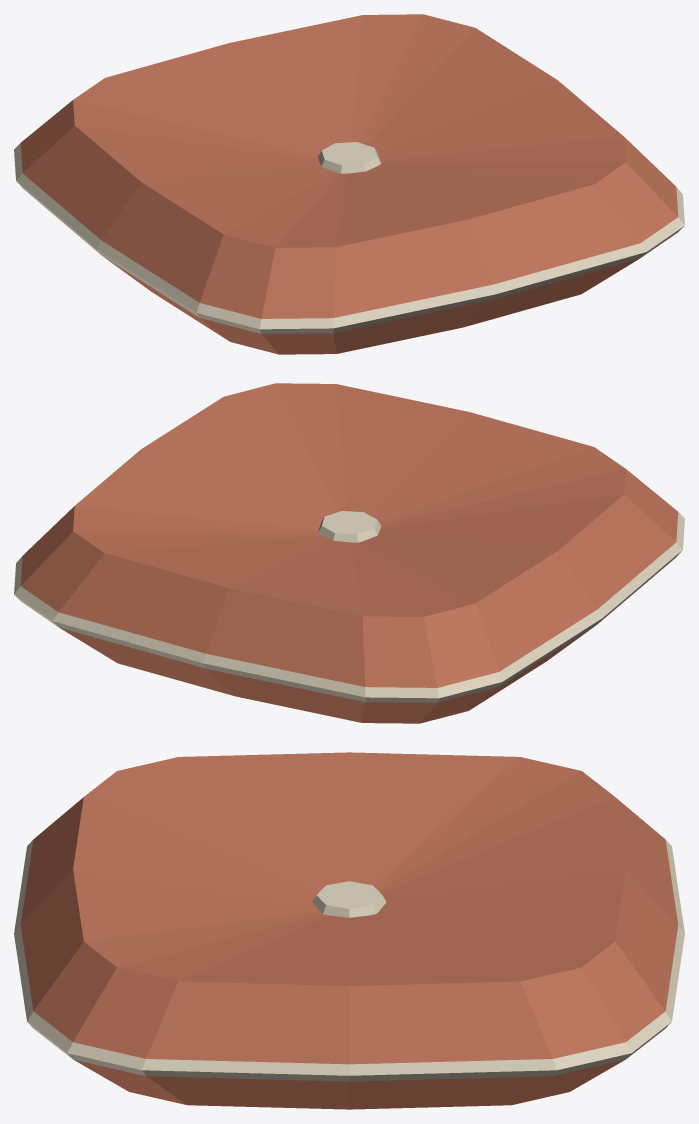
File: FN_Cushion_Floor.obj
3 renders of one model, top to bottom at view 1: azimuth 30°, elevation 25°; view 2: azimuth 150°, elevation 25°; view 3: azimuth 270°, elevation 25°, orthographic. The views are drawn at different scales.
Parts seen in each view (by area): view 1: FN_Cushion_Floor; view 2: FN_Cushion_Floor; view 3: FN_Cushion_Floor.
Part boxes in pixels (x1,y1,x2,y2): FN_Cushion_Floor: (14, 14, 684, 354); FN_Cushion_Floor: (14, 383, 684, 723); FN_Cushion_Floor: (14, 752, 684, 1109).
Size of the model in its own units: 0.704 by 0.15 by 0.704.
Materials: 1 (1 with a texture image).
